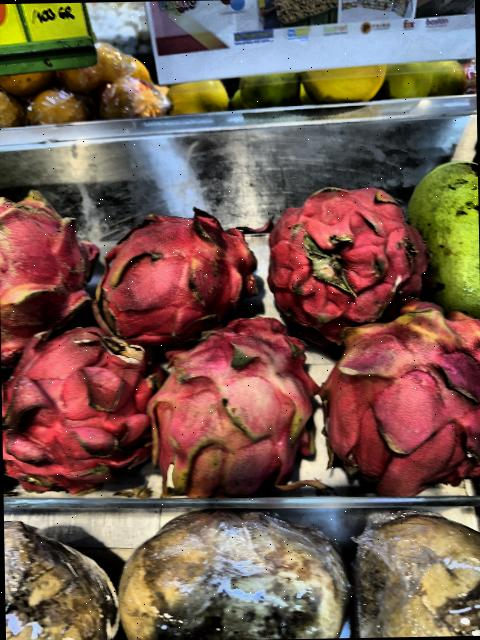buah-naga-belum-matang: (314, 305, 480, 496), (157, 327, 322, 499)
buah-naga-matang: (240, 185, 434, 332), (0, 327, 158, 503), (79, 214, 268, 344), (0, 187, 99, 332)
